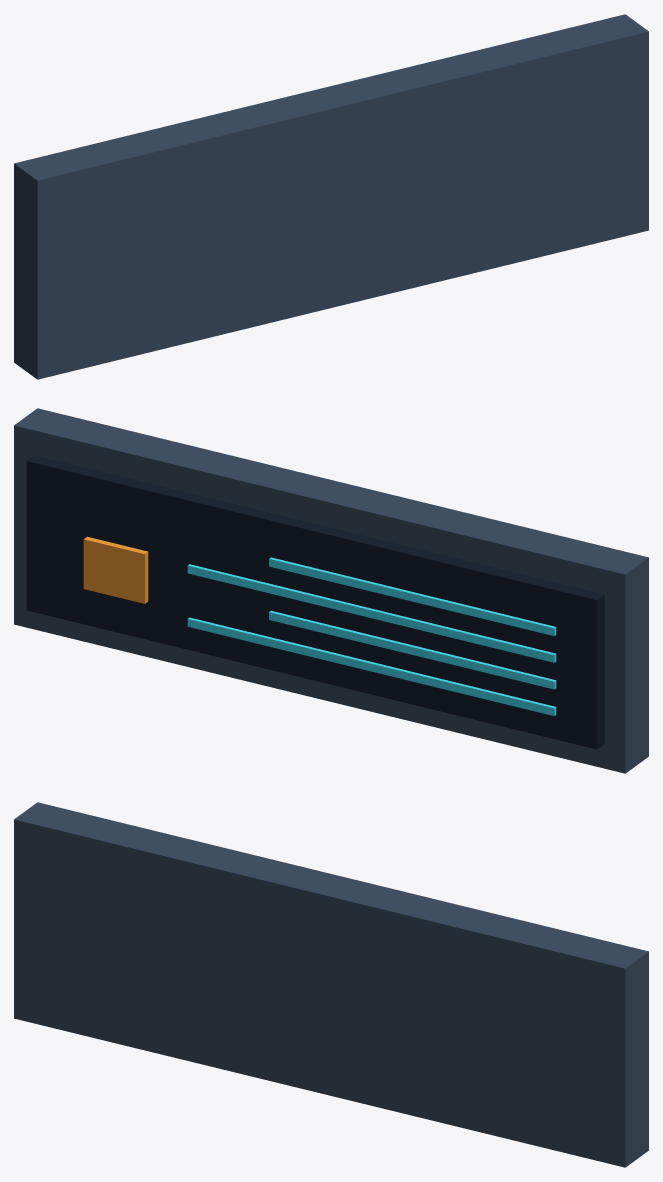
File: env_wall_sign.obj
The picture shows the model from 3 angles, top to bottom: view 1: azimuth 30°, elevation 25°; view 2: azimuth 150°, elevation 25°; view 3: azimuth 330°, elevation 25°; orthographic projection.
Bounding box in the file's own units: 1.8 × 0.56 × 0.18.
